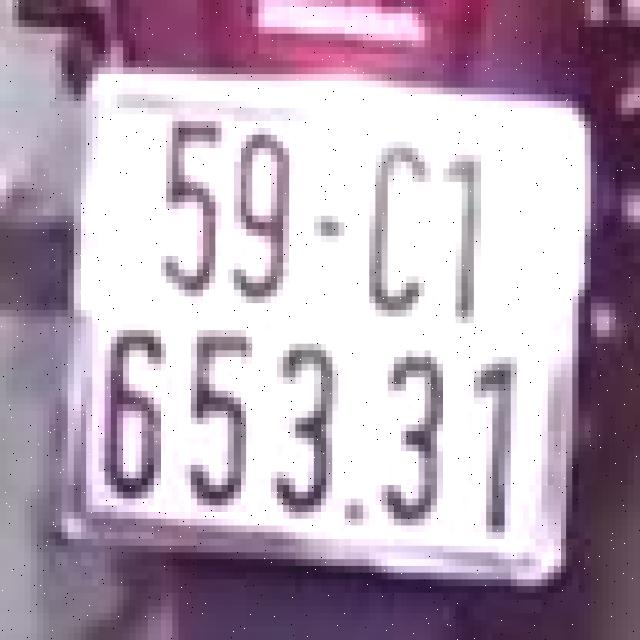1: (462, 344, 529, 546), (440, 142, 495, 330)
3: (258, 327, 344, 522), (372, 340, 452, 542)
5: (176, 317, 262, 512), (150, 98, 224, 320)
6: (96, 317, 170, 505)
9: (231, 118, 292, 306)
C: (348, 128, 440, 317)
